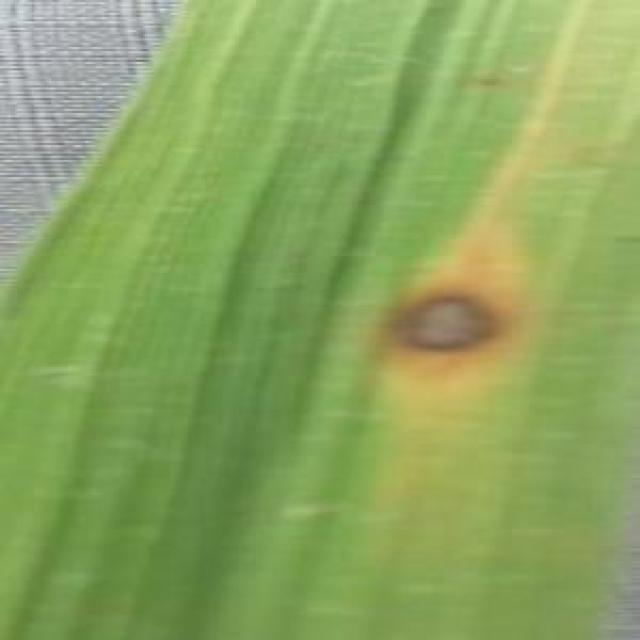Rice_Brownspot: (348, 234, 542, 412), (451, 56, 518, 102)
